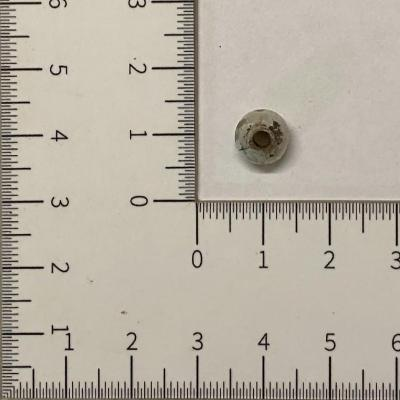archeology: (234, 109, 291, 169)
